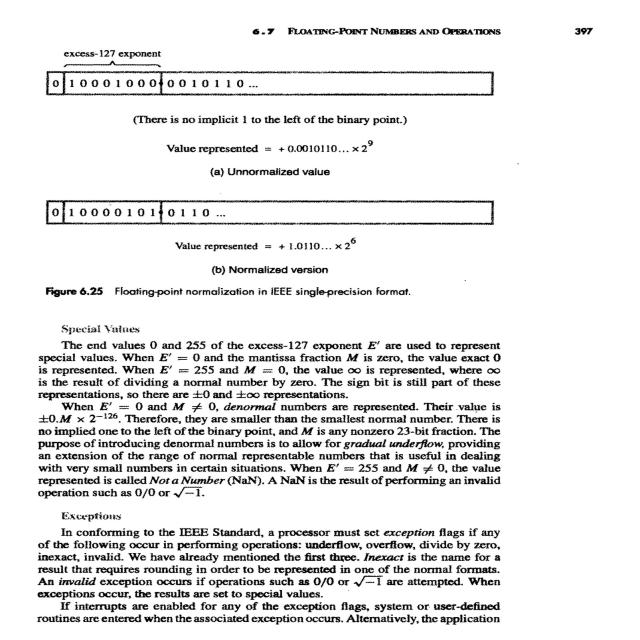diagram: (38, 30, 531, 325)
